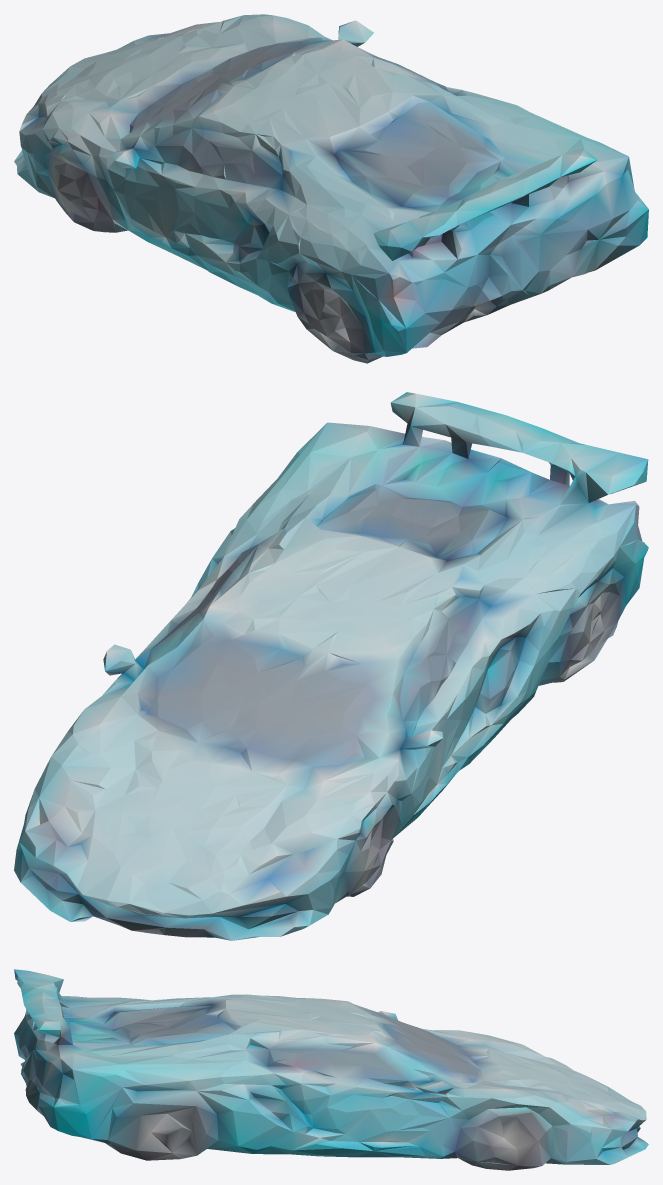
The model's file is sports.glb.
3 views of the same model, one above another, from view 1: azimuth 30°, elevation 25°; view 2: azimuth 150°, elevation 25°; view 3: azimuth 270°, elevation 25° (orthographic). The views are drawn at different scales.
Visible parts, largest first — view 1: world; view 2: world; view 3: world.
Boxes of the visible parts, x1=… form: world: x1=14, y1=14, x2=648, y2=363; world: x1=14, y1=392, x2=648, y2=940; world: x1=14, y1=969, x2=648, y2=1170.
Size of the model in its own units: 2 by 1.25 by 4.4.
